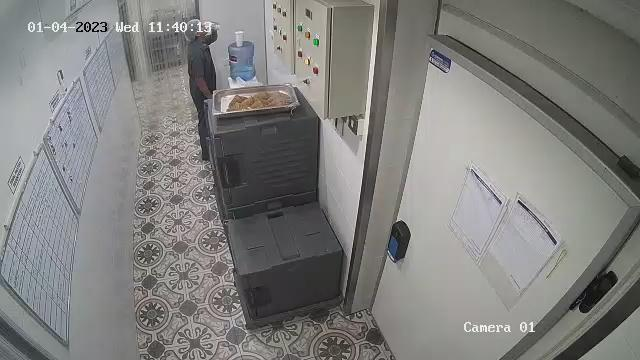no_apron: (191, 37, 222, 101)
